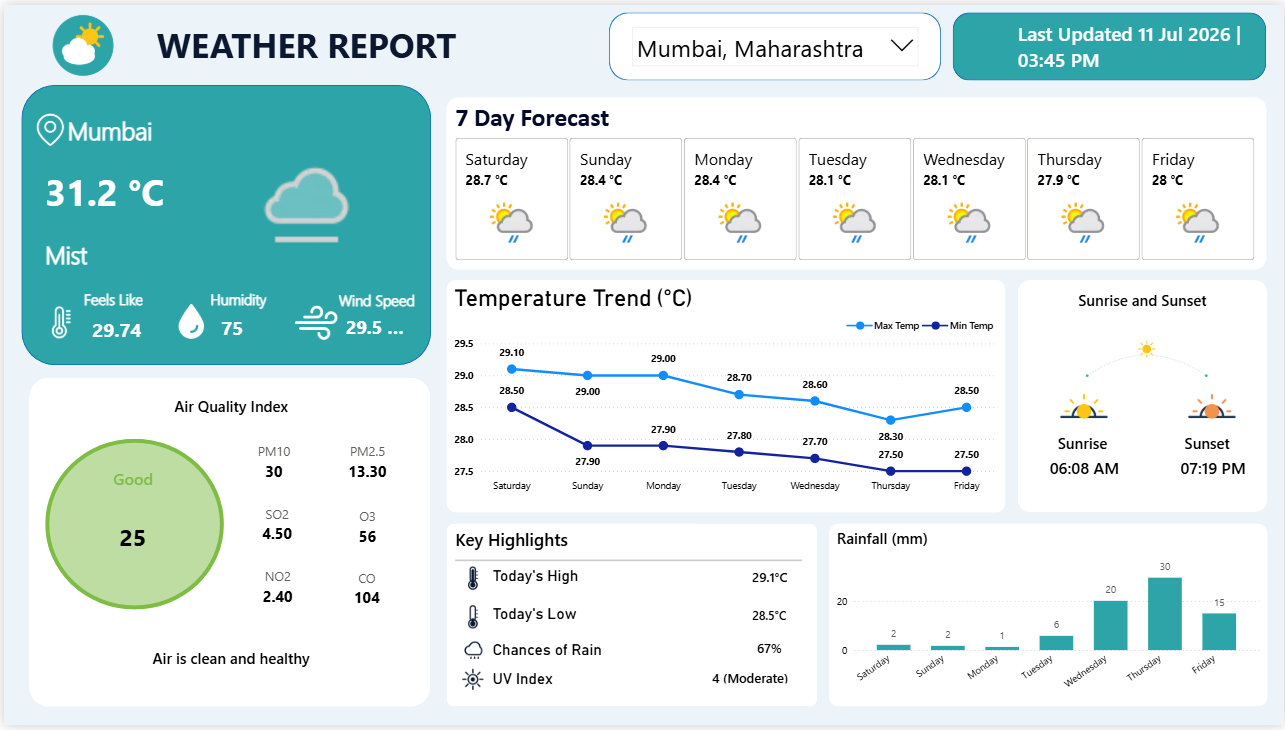

The dashboard page shown, as its layout file describes it:
{"tool":"powerbi","page":{"name":"Weather","canvas":[1600,900],"ordinal":0},"visuals":[{"type":"shape","box":[22,100,512,350],"z":0,"group":"g3"},{"type":"group","id":"g1","title":"Group 1","box":[1266.7,343.3,312.2,290],"z":0},{"type":"group","id":"g2","title":"Group 3","box":[553.3,648.3,463.3,228.3],"z":0,"group":"g4"},{"type":"shape","box":[1281.7,548.3,138.3,58.3],"z":1000},{"type":"image","box":[564.7,700.3,44.7,32.8],"z":1000,"group":"g4"},{"type":"shape","box":[756.7,10,415,85],"z":2000},{"type":"shape","box":[51.7,176.7,226.7,113.3],"z":2000,"group":"g3"},{"type":"image","box":[564.7,748,44.7,32.8],"z":2000,"group":"g4"},{"type":"shape","box":[1266.7,528.3,161.7,38.3],"z":3000},{"type":"image","box":[566.2,783.7,44.7,32.8],"z":3000,"group":"g4"},{"type":"shape","box":[1441.7,548.3,138.3,58.3],"z":4000},{"type":"image","box":[564.7,826.9,44.7,32.8],"z":4000,"group":"g4"},{"type":"textbox","title":"WEATHER REPORT","box":[186.3,14.9,552.8,84.9],"z":5000},{"type":"shape","box":[51.7,290,170,40],"z":6000,"group":"g3"},{"type":"image","box":[1346.7,388.3,163.3,111.7],"z":6000},{"type":"slicer","fields":{"Values":["Locations.NameState"]},"box":[775,16.7,378.3,73.3],"z":7000},{"type":"image","box":[1286.7,465,128.3,70],"z":8000},{"type":"shape","box":[1186.7,10,391.7,85],"z":9000},{"type":"image","box":[1453.3,465,113.3,70],"z":10000},{"type":"shape","box":[1428.9,527.8,151.7,38.3],"z":11000},{"type":"shape","box":[1266.7,10,286.7,85],"z":12000},{"type":"advancedSlicerVisual","title":"7 Day Forecast","fields":{"Values":["forecast_day.for_day_name"]},"box":[553.3,115,1025,215],"z":13000},{"type":"shape","box":[80,136.7,170,40],"z":14000,"group":"g3"},{"type":"lineChart","title":"Temperature Trend (°C)","fields":{"Y":["_measures.Max Temp","_measures.Min Temp"],"Category":["forecast_day.for_day_name"]},"box":[553.3,343.3,698.3,290],"z":14000},{"type":"shape","box":[31.7,465,501.7,411.7],"z":15000,"group":"g5"},{"type":"columnChart","title":"Rainfall (mm)","fields":{"Category":["forecast_day.for_day_name"],"Y":["Sum(forecast_day.forecast.forecastday.day.totalprecip_mm)"]},"box":[1031.7,648.3,548.3,228.3],"z":15000},{"type":"group","id":"g3","title":"Group 2","box":[21.7,0,512.3,450],"z":16000},{"type":"group","id":"g4","title":"Group 4","box":[553.3,648.3,463.3,228.3],"z":17000},{"type":"image","box":[31.3,10.4,135.6,79],"z":18000},{"type":"image","box":[21.7,136.7,71.7,40],"z":18000,"group":"g3"},{"type":"shape","box":[128.4,481.7,311.7,38.3],"z":18000,"group":"g5"},{"type":"shape","box":[1266.7,343.3,311.7,290],"z":18500,"group":"g1"},{"type":"cardVisual","fields":{"Data":["Min(current.current.condition.icon)"]},"box":[223.4,0,310,330],"z":19000,"group":"g3"},{"type":"group","id":"g5","title":"Group 5","box":[31.7,465,501.7,411.7],"z":19000},{"type":"cardVisual","title":"PM10","fields":{"Data":["Sum(current.current.air_quality.pm10)"]},"box":[285,533.3,106.7,73.3],"z":19000,"group":"g5"},{"type":"shape","box":[70,353.3,133.3,30],"z":20000,"group":"g3"},{"type":"cardVisual","title":"PM2.5","fields":{"Data":["Sum(current.current.air_quality.pm2_5)"]},"box":[396.7,531.7,115,75],"z":20000,"group":"g5"},{"type":"image","box":[51.7,368.3,40,56.7],"z":21000,"group":"g3"},{"type":"cardVisual","title":"SO2","fields":{"Data":["Sum(current.current.air_quality.so2)"]},"box":[286.7,610,111.7,75],"z":21000,"group":"g5"},{"type":"shape","box":[226.7,353.3,133.3,30],"z":22000,"group":"g3"},{"type":"cardVisual","title":"NO2","fields":{"Data":["Sum(current.current.air_quality.no2)"]},"box":[293.4,688.3,100,75],"z":22000,"group":"g5"},{"type":"image","box":[210,358.3,46.7,75],"z":23000,"group":"g3"},{"type":"cardVisual","title":"CO","fields":{"Data":["Sum(current.current.air_quality.co)"]},"box":[403.4,683.3,101.7,88.3],"z":23000,"group":"g5"},{"type":"shape","box":[1267.3,349.4,311.7,38.3],"z":23500,"group":"g1"},{"type":"image","box":[360,368.3,58.3,56.7],"z":24000,"group":"g3"},{"type":"cardVisual","title":"CO","fields":{"Data":["Sum(current.current.air_quality.o3)"]},"box":[408.4,606.7,93.3,88.3],"z":24000,"group":"g5"},{"type":"shape","box":[398.4,343.3,135,48.3],"z":25000,"group":"g3"},{"type":"shape","box":[51.7,541.7,223.3,213.3],"z":25000,"group":"g5"},{"type":"cardVisual","fields":{"Data":["Sum(current.current.humidity)"]},"box":[233.4,370,105,63.3],"z":26000,"group":"g3"},{"type":"cardVisual","fields":{"Data":["_measures.AQI Value"]},"box":[94.8,576.8,135.6,141.6],"z":26000,"group":"g5"},{"type":"cardVisual","title":"KM/H","fields":{"Data":["_measures.Wind_Speed"]},"box":[398.4,353.3,135,96.7],"z":27000,"group":"g3"},{"type":"shape","title":"Key Highlights","box":[553.3,648.3,463.3,228.3],"z":27000,"group":"g2"},{"type":"cardVisual","fields":{"Data":["Sum(current.current.pressure_in)"]},"box":[80,361.7,123.3,88.3],"z":28000,"group":"g3"},{"type":"shape","box":[68.4,771.7,433.3,88.3],"z":28000,"group":"g5"},{"type":"cardVisual","title":"PM10","fields":{"Data":["_measures.Today High"]},"box":[904.4,679.4,105.8,68.5],"z":29000,"group":"g2"},{"type":"cardVisual","title":"PM10","fields":{"Data":["_measures.Today Low"]},"box":[902.9,725.6,107.3,73],"z":30000,"group":"g2"},{"type":"cardVisual","title":"PM10","fields":{"Data":["_measures.Chance of Rain"]},"box":[902.9,765.8,107.3,73],"z":31000,"group":"g2"},{"type":"cardVisual","title":"PM10","fields":{"Data":["_measures.UV Index"]},"box":[841.8,813.4,167.2,51.6],"z":32000,"group":"g2"},{"type":"shape","box":[610.9,694.3,254.8,38.7],"z":33000,"group":"g2"},{"type":"shape","box":[610.9,742,254.8,37.3],"z":34000,"group":"g2"},{"type":"shape","box":[610.9,785.2,254.8,38.7],"z":35000,"group":"g2"},{"type":"shape","box":[610.9,824,211.6,37.3],"z":36000,"group":"g2"},{"type":"shape","box":[565,648.3,300,38.3],"z":37000,"group":"g2"},{"type":"shape","box":[565,675,433.3,38.3],"z":38000,"group":"g2"}]}

Visuals, with their boxes in screenshot pixels (x1, y1, x2, y2), scaled from the page's 1600x900 canvas onto the 1285x730 screenshot:
shape: (18,81,429,365)
"Group 1" group: (1017,278,1268,514)
"Group 3" group: (444,526,816,711)
shape: (1029,445,1140,492)
image: (454,568,489,595)
shape: (608,8,941,77)
shape: (42,143,224,235)
image: (454,607,489,633)
shape: (1017,429,1147,460)
image: (455,636,491,662)
shape: (1158,445,1269,492)
image: (454,671,489,697)
"WEATHER REPORT" textbox: (150,12,594,81)
shape: (42,235,178,268)
image: (1082,315,1213,406)
slicer - Locations.NameState: (622,14,926,73)
image: (1033,377,1136,434)
shape: (953,8,1268,77)
image: (1167,377,1258,434)
shape: (1148,428,1269,459)
shape: (1017,8,1248,77)
"7 Day Forecast" advancedSlicerVisual: (444,93,1268,268)
shape: (64,111,201,143)
"Temperature Trend (°C)" lineChart: (444,278,1005,514)
shape: (25,377,428,711)
"Rainfall (mm)" columnChart: (829,526,1269,711)
"Group 2" group: (17,0,429,365)
"Group 4" group: (444,526,816,711)
image: (25,8,134,73)
image: (17,111,75,143)
shape: (103,391,353,422)
shape: (1017,278,1268,514)
cardVisual - Min(current.current.condition.icon): (179,0,428,268)
"Group 5" group: (25,377,428,711)
"PM10" cardVisual: (229,433,315,492)
shape: (56,287,163,311)
"PM2.5" cardVisual: (319,431,411,492)
image: (42,299,74,345)
"SO2" cardVisual: (230,495,320,556)
shape: (182,287,289,311)
"NO2" cardVisual: (236,558,316,619)
image: (169,291,206,351)
"CO" cardVisual: (324,554,406,626)
shape: (1018,283,1268,314)
image: (289,299,336,345)
"CO" cardVisual: (328,492,403,564)
shape: (320,278,428,318)
shape: (42,439,221,612)
cardVisual - Sum(current.current.humidity): (187,300,272,351)
cardVisual - _measures.AQI Value: (76,468,185,583)
"KM/H" cardVisual: (320,287,428,365)
"Key Highlights" shape: (444,526,816,711)
cardVisual - Sum(current.current.pressure_in): (64,293,163,365)
shape: (55,626,403,698)
"PM10" cardVisual: (726,551,811,607)
"PM10" cardVisual: (725,589,811,648)
"PM10" cardVisual: (725,621,811,680)
"PM10" cardVisual: (676,660,810,702)
shape: (491,563,695,595)
shape: (491,602,695,632)
shape: (491,637,695,668)
shape: (491,668,661,699)
shape: (454,526,695,557)
shape: (454,548,802,579)
